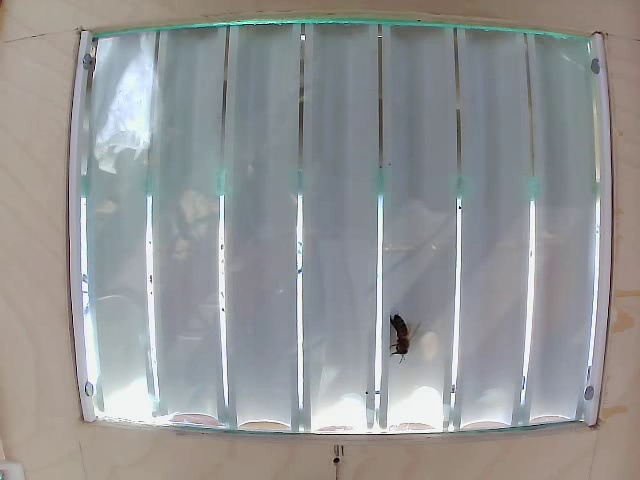bee: (387, 307, 415, 362)
